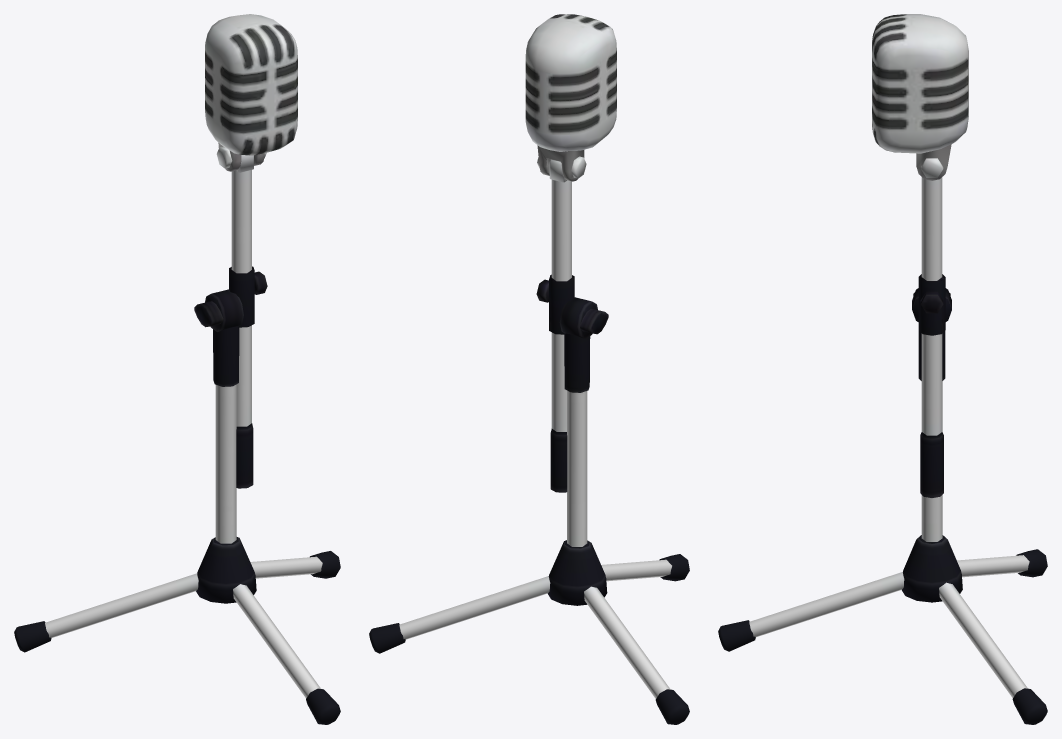
3 views of the same model, side by side, from view 1: azimuth 30°, elevation 25°; view 2: azimuth 150°, elevation 25°; view 3: azimuth 270°, elevation 25° (orthographic). The views are drawn at different scales.
Bounding box in the file's own units: 6.55 × 12.24 × 5.74.
1 material, 1 textured.
